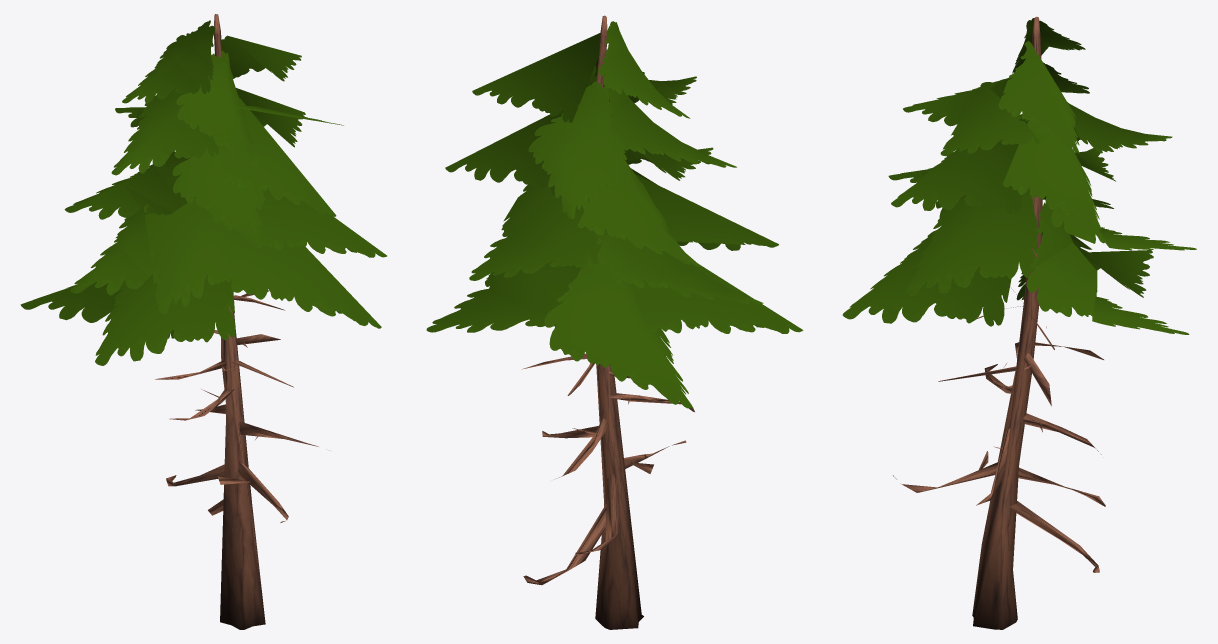
Rendered from pine_3.glb.
3 views of the same model, side by side, from view 1: azimuth 30°, elevation 25°; view 2: azimuth 150°, elevation 25°; view 3: azimuth 270°, elevation 25° (orthographic). The views are drawn at different scales.
Parts seen in each view (by area): view 1: Pine_3; view 2: Pine_3; view 3: Pine_3.
Boxes of the visible parts, x1,y1,x2,y2 form: Pine_3: (20, 14, 386, 629); Pine_3: (426, 15, 803, 629); Pine_3: (842, 16, 1196, 629).
Bounding box in the file's own units: 3.61 × 7.23 × 4.
2 materials, 2 textured.
